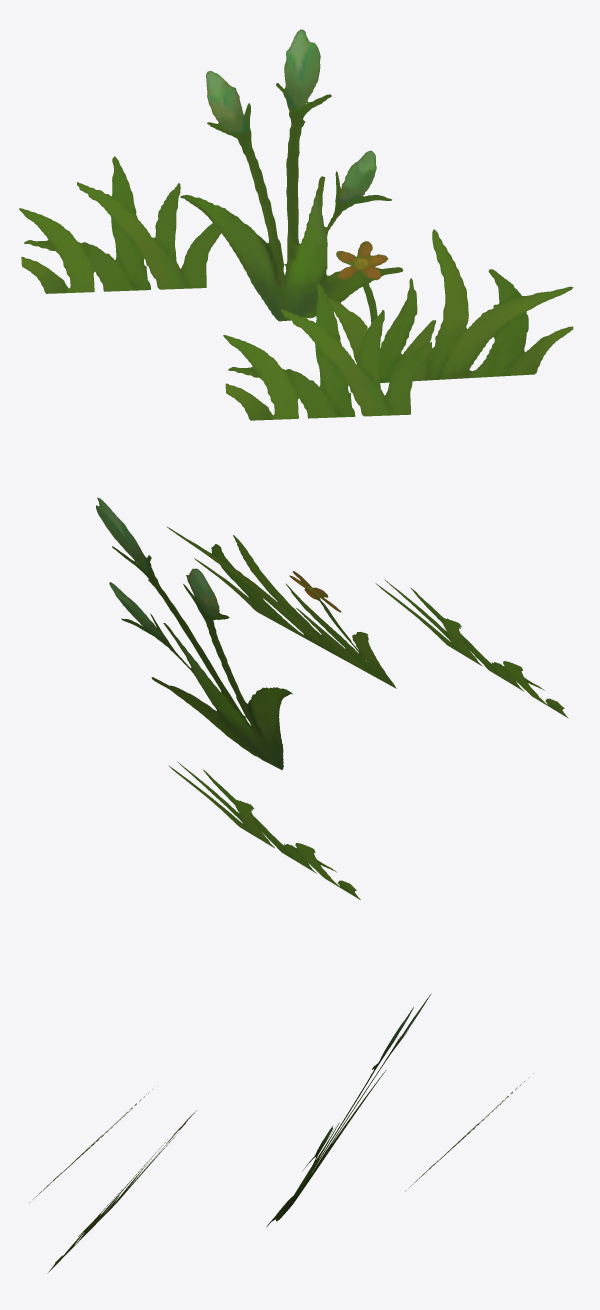
Rendered from grass_07.FBX.
3 renders of one model, top to bottom at view 1: azimuth 30°, elevation 25°; view 2: azimuth 150°, elevation 25°; view 3: azimuth 270°, elevation 25°, orthographic. The views are drawn at different scales.
Parts seen in each view (by area): view 1: 对象003; view 2: 对象003; view 3: 对象003.
Part boxes in pixels (box(x1,y1,x2,y2)): 对象003: box(19, 29, 573, 420); 对象003: box(96, 498, 568, 899); 对象003: box(29, 993, 533, 1273).
Size of the model in its own units: 0.835 by 0.496 by 1.05.
1 material, 1 textured.
